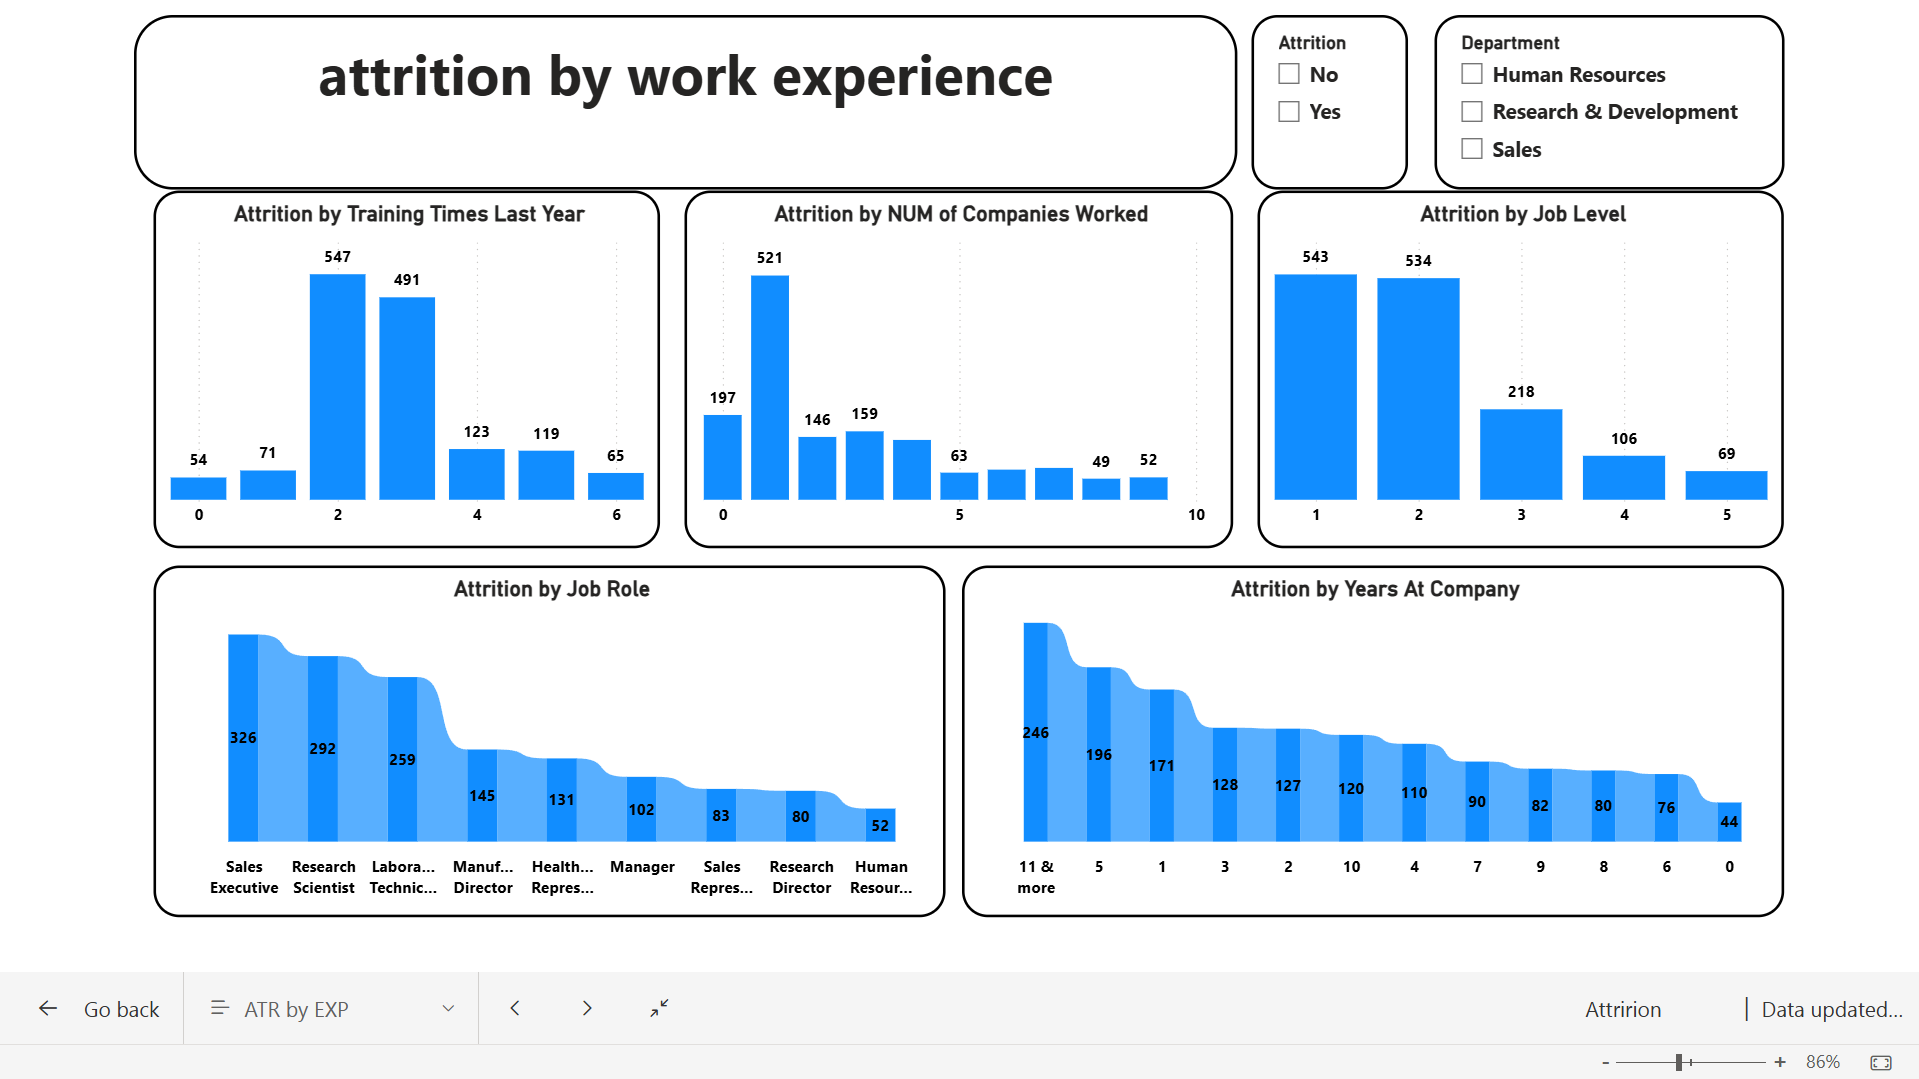

Layout of this report page (visuals, bound fields, positions):
{"tool":"powerbi","page":{"name":"ATR by EXP","canvas":[1280,720],"ordinal":4},"visuals":[{"type":"clusteredColumnChart","title":"Attrition by Training Times Last Year","fields":{"Category":["clean data.TrainingTimesLastYear"],"Y":["CountNonNull(clean data.Attrition)"]},"box":[15.6,135.6,392.7,277.4],"z":0},{"type":"textbox","box":[0,0,855.6,135.6],"z":1000},{"type":"clusteredColumnChart","title":"Attrition by Job Level","fields":{"Y":["CountNonNull(clean data.Attrition)"],"Category":["clean data.JobLevel"]},"box":[871.2,135.6,408.3,277.4],"z":2000},{"type":"clusteredColumnChart","title":"Attrition by NUM of Companies Worked","fields":{"Category":["clean data.NumCompaniesWorked"],"Y":["CountNonNull(clean data.Attrition)"]},"box":[427,135.6,425.5,277.4],"z":3000},{"type":"ribbonChart","title":"Attrition by Job Role","fields":{"Category":["clean data.JobRole"],"Y":["CountNonNull(clean data.Attrition)"]},"box":[15.6,427,614,272.7],"z":4000},{"type":"ribbonChart","title":"Attrition by Years At Company","fields":{"Category":["clean data.YearsAtCompany (groups)"],"Y":["CountNonNull(clean data.Attrition)"]},"box":[642.1,427,637.4,272.7],"z":5000},{"type":"slicer","fields":{"Values":["clean data.Department"]},"box":[1008.3,0,271.2,135.6],"z":6000},{"type":"slicer","fields":{"Values":["clean data.Attrition"]},"box":[866.5,0,121.6,135.6],"z":7000}]}

Visuals, with their boxes on the page's 1280x720 design canvas (x1, y1, x2, y2). These are canvas units, not pixel positions in the 1919x1079 screenshot, which may show the page scaled, cropped or inside an application window:
"Attrition by Training Times Last Year" clusteredColumnChart: [left=16, top=136, right=408, bottom=413]
textbox: [left=0, top=0, right=856, bottom=136]
"Attrition by Job Level" clusteredColumnChart: [left=871, top=136, right=1280, bottom=413]
"Attrition by NUM of Companies Worked" clusteredColumnChart: [left=427, top=136, right=852, bottom=413]
"Attrition by Job Role" ribbonChart: [left=16, top=427, right=630, bottom=700]
"Attrition by Years At Company" ribbonChart: [left=642, top=427, right=1280, bottom=700]
slicer - clean data.Department: [left=1008, top=0, right=1280, bottom=136]
slicer - clean data.Attrition: [left=866, top=0, right=988, bottom=136]
